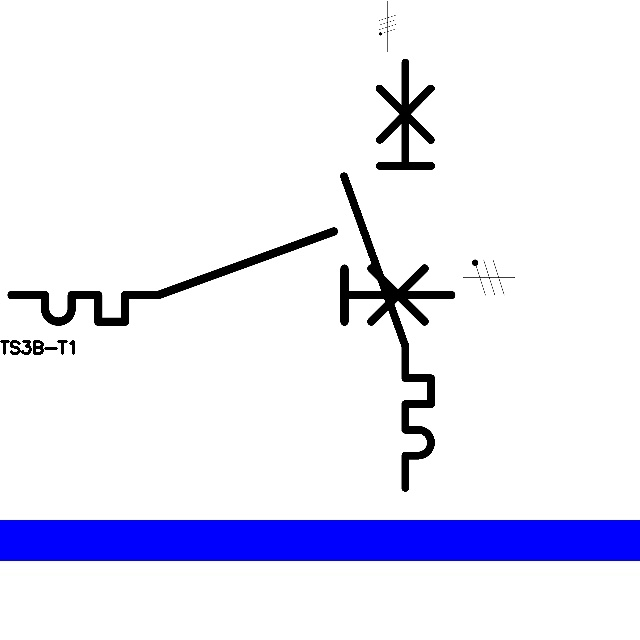interruptor_termomagnetico: (0, 220, 462, 333), (333, 51, 442, 499)
